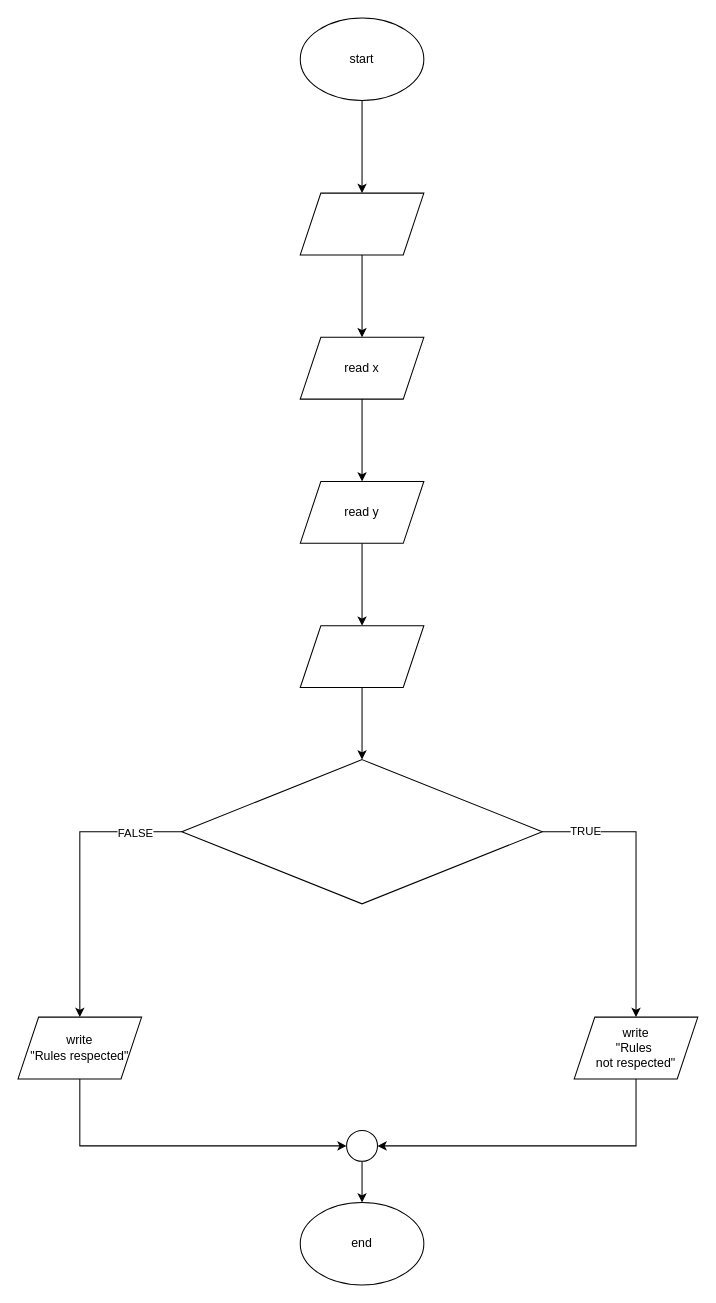
The diagram is 716 pixels wide and 1303 high, and some of its shapes have lost their labels. The shapes that lost their labels are listed below. From the top down, each one's centre as x and y in pixels, then its label:
(x=361, y=223): write "Insert the tree numbers"
(x=361, y=656): read z
(x=361, y=831): (x + y + z) % 2 == 0 AND ((x % 3 == 0) AND (y % 5 == 0) AND (z % 7 ==0))
